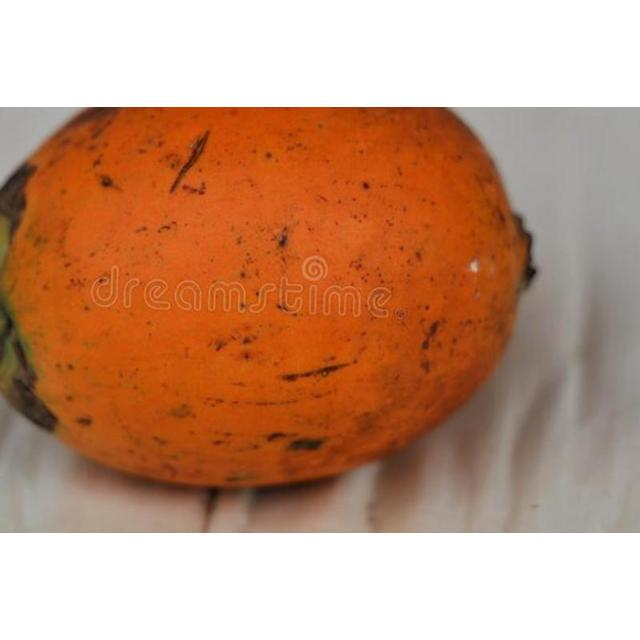good: (0, 107, 536, 494)
